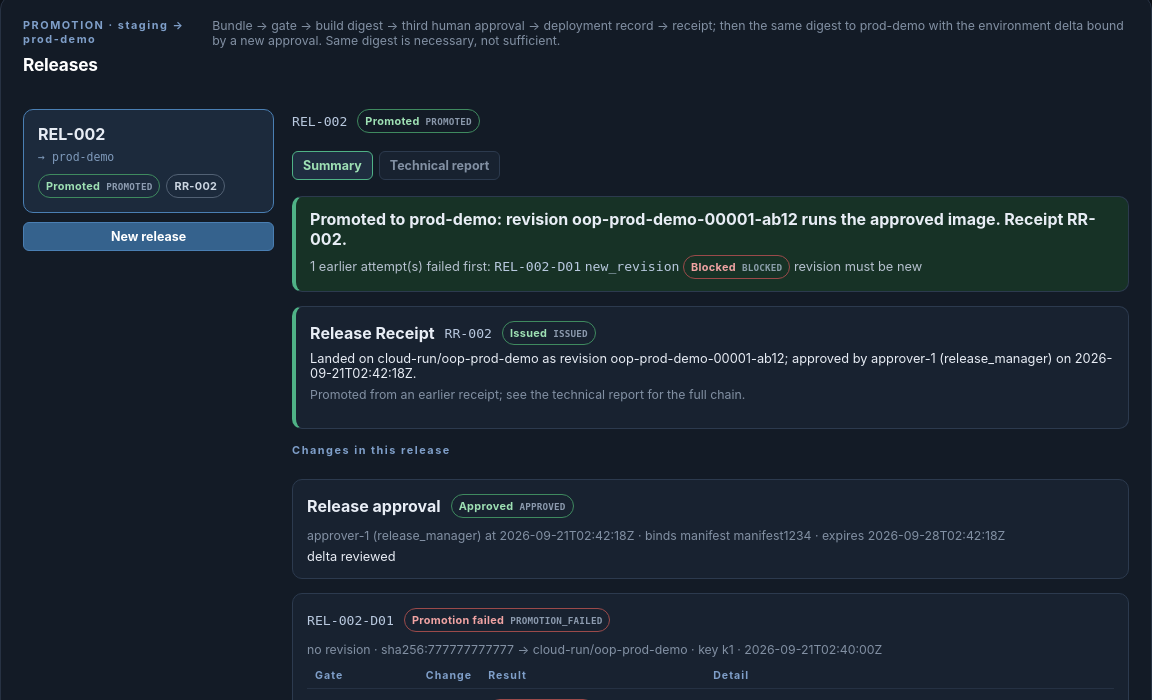
Test case: ReleasesPanel release detail (readability review item 5) › switching to the technical report reveals the full receipt, manifest and hashes; renderer adds no new facts
What coordinates should you click on to do the following:
click the button with test id "release-view-technical"
I would click on:
 (440, 166)
Its box is x1=379 y1=151 x2=500 y2=180.
(page scrolled)
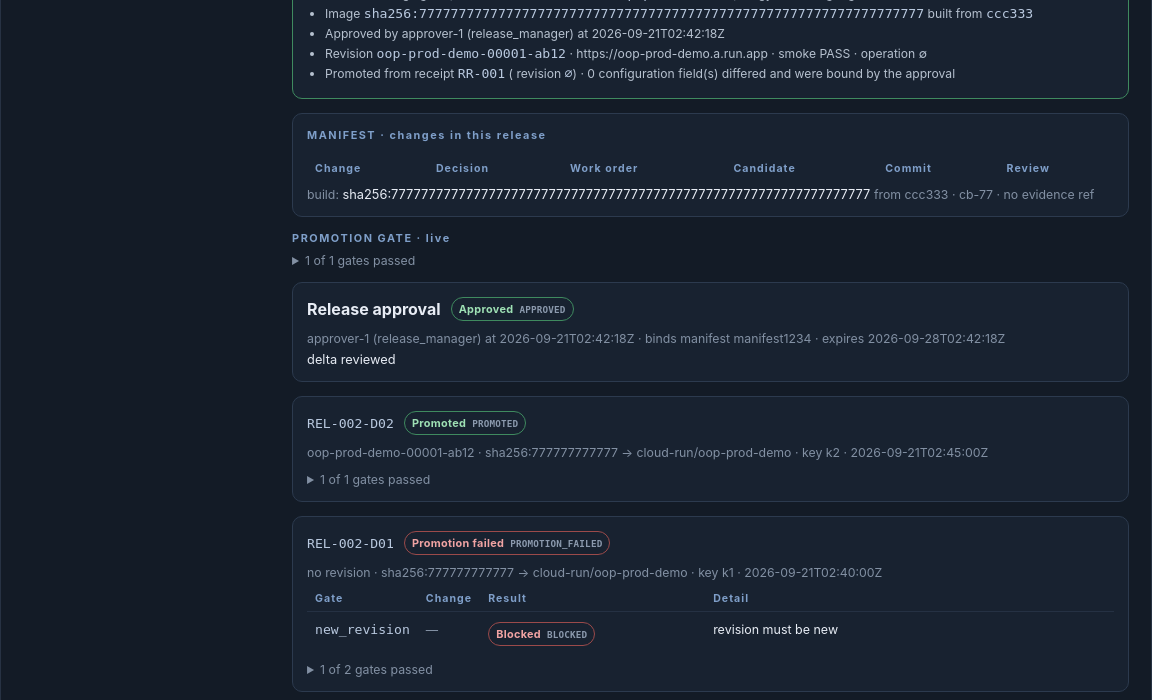
Check: the element with test id "release-receipt" shows "sha256:7777777777777777777777777777777777777777777777777777777777777777", box x1=364 y1=6 x2=924 y2=21
Check: the list item with test id "receipt-chain" shows "RR-001", box x1=458 y1=66 x2=505 y2=81
Check: the element with test id "release-manifest" is shown, box x1=292 y1=113 x2=1129 y2=217
